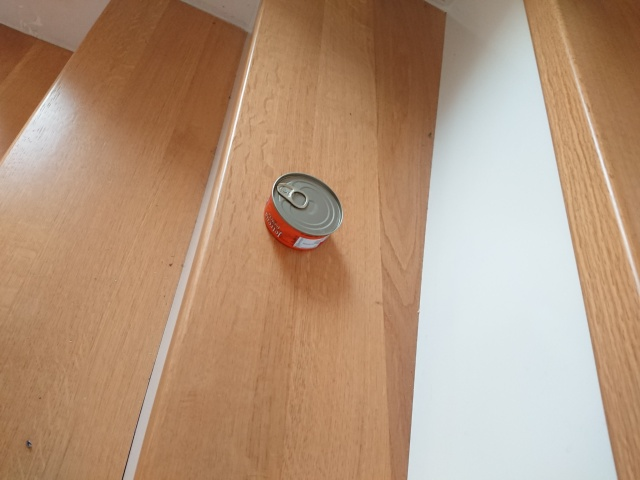Gavrilovic Pork Liver Pate 100g: (261, 170, 344, 253)
